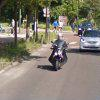Motorcycle: (46, 32, 70, 72)
